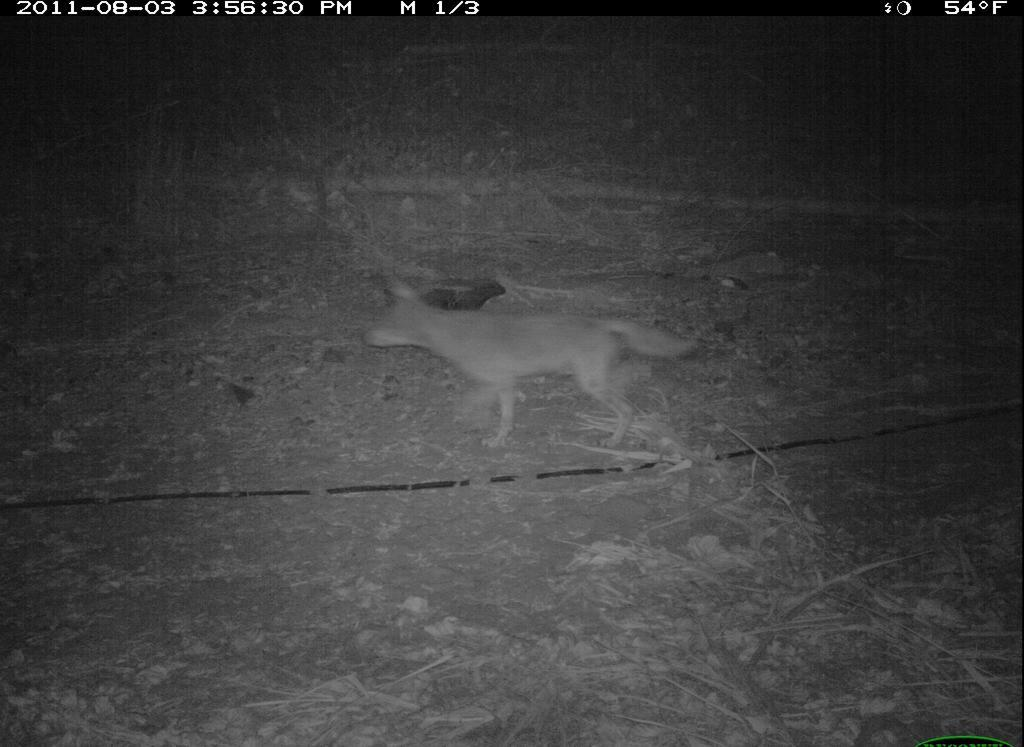coyote: (327, 268, 725, 491)
